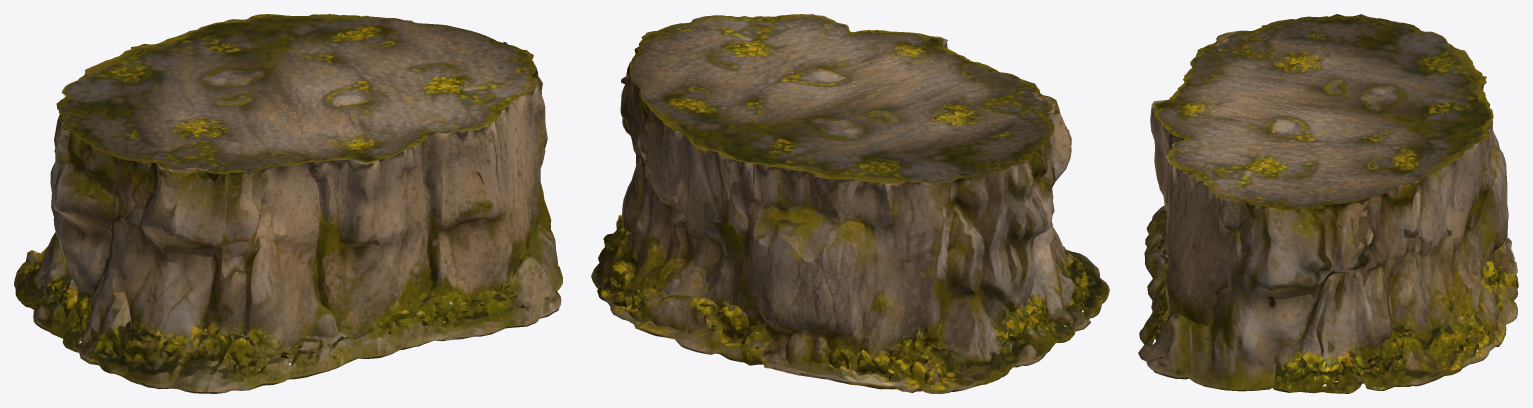
The model's file is falaise.glb.
3 renders of one model, left to right at view 1: azimuth 30°, elevation 25°; view 2: azimuth 150°, elevation 25°; view 3: azimuth 270°, elevation 25°, orthographic. The views are drawn at different scales.
Parts seen in each view (by area): view 1: loup_texture.obj; view 2: loup_texture.obj; view 3: loup_texture.obj.
Boxes of the visible parts, <box> form: loup_texture.obj: <box>14,14,562,393</box>; loup_texture.obj: <box>591,14,1109,393</box>; loup_texture.obj: <box>1138,14,1518,393</box>.
Bounding box in the file's own units: 13 × 5.32 × 10.
Materials: 1 (1 with a texture image).
